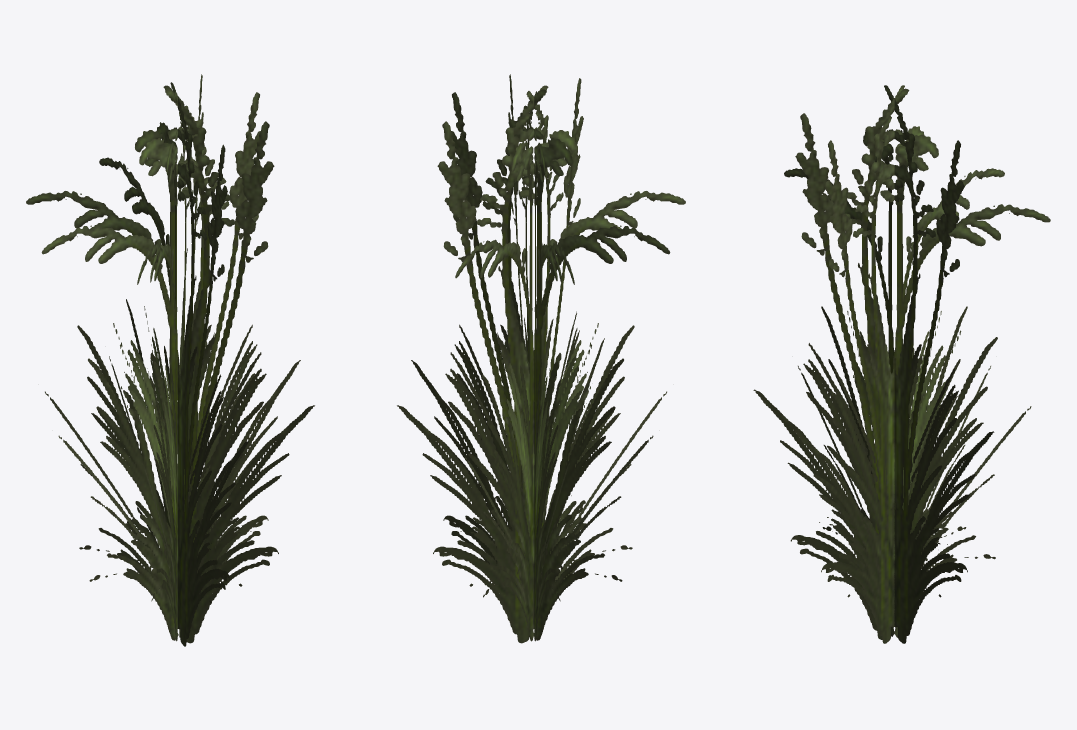
The model's file is 3d-tanam1.glb.
3 renders of one model, left to right at view 1: azimuth 30°, elevation 25°; view 2: azimuth 150°, elevation 25°; view 3: azimuth 270°, elevation 25°, orthographic.
Parts seen in each view (by area): view 1: Material_001-material.004; view 2: Material_001-material.004; view 3: Material_001-material.004.
Boxes of the visible parts, x1=… form: Material_001-material.004: x1=26, y1=74, x2=314, y2=646; Material_001-material.004: x1=397, y1=74, x2=685, y2=643; Material_001-material.004: x1=753, y1=85, x2=1050, y2=643.
Size of the model in its own units: 1.91 by 3.5 by 1.91.
Materials: 1 (1 with a texture image).
